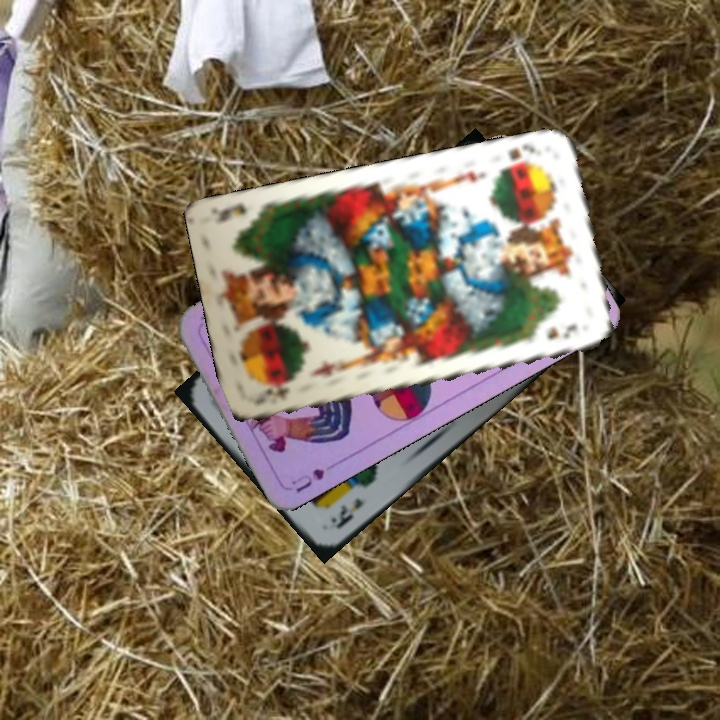EK: (326, 494, 366, 532)
SK: (496, 140, 539, 172), (257, 375, 301, 403)
SU: (287, 456, 343, 495)
